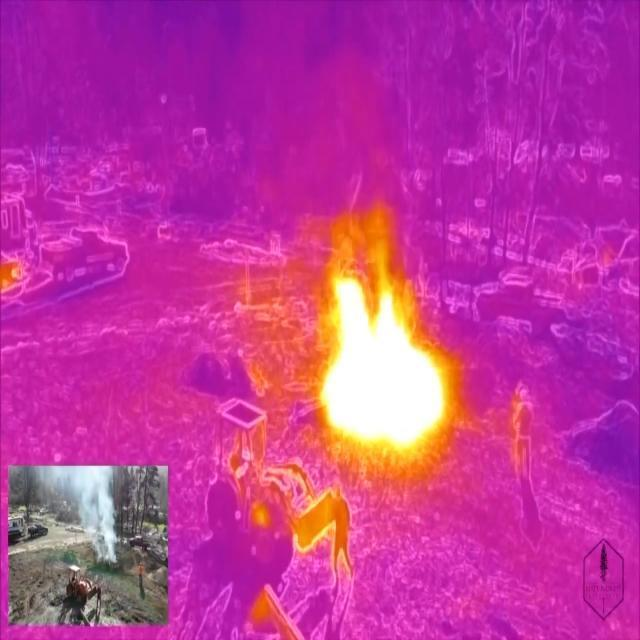fire: (321, 271, 449, 453)
